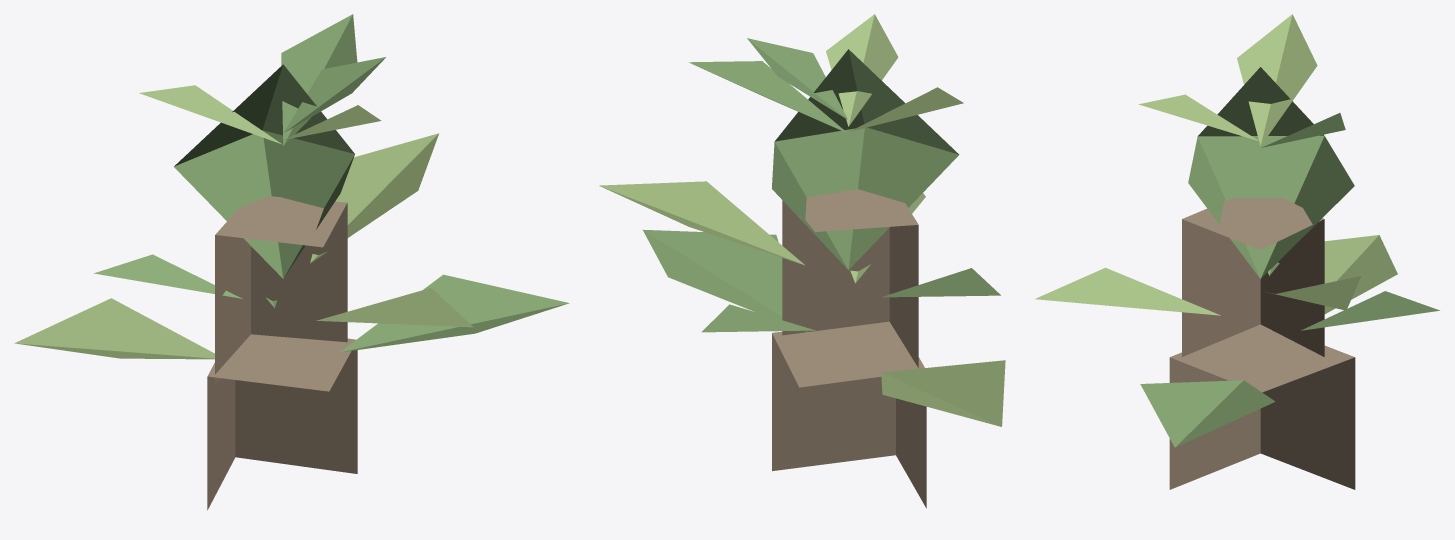
Rendered from guan.aili@seedling__bloom.glb.
3 views of the same model, side by side, from view 1: azimuth 30°, elevation 25°; view 2: azimuth 150°, elevation 25°; view 3: azimuth 270°, elevation 25° (orthographic). The views are drawn at different scales.
Parts seen in each view (by area): view 1: guan.aili@seedling__bloom; view 2: guan.aili@seedling__bloom; view 3: guan.aili@seedling__bloom.
Boxes of the visible parts, bbox=[...] form: guan.aili@seedling__bloom: bbox=[14, 14, 569, 510]; guan.aili@seedling__bloom: bbox=[599, 14, 1005, 508]; guan.aili@seedling__bloom: bbox=[1034, 14, 1439, 489].
Size of the model in its own units: 0.0874 by 0.079 by 0.0688.
